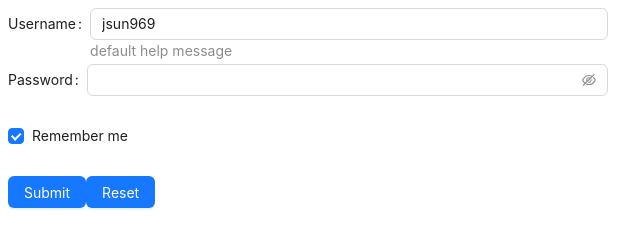
Scenario: Form › should show error message when password is empty
Click the button "Submit" at (47, 192), box [8,176,86,208]
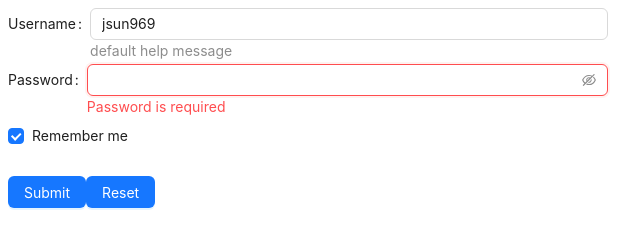
expect the element with test id "password-field" shows "Password is required": met, box [87,98,226,115]
